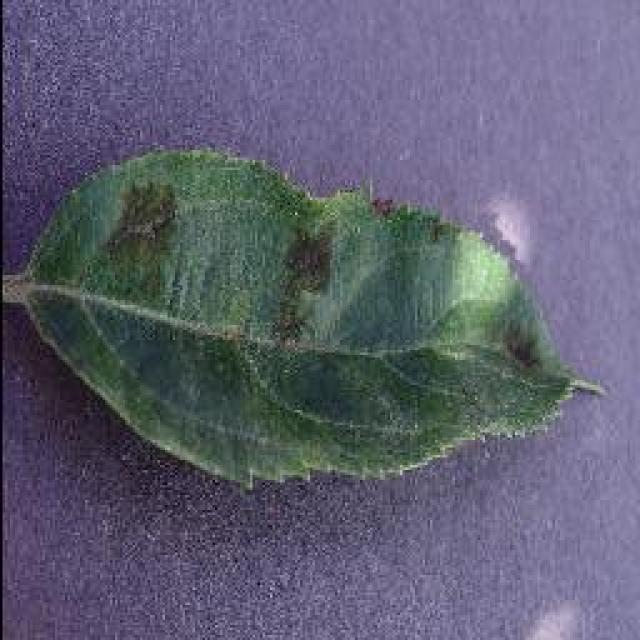apple scab disease: (3, 142, 605, 492)
